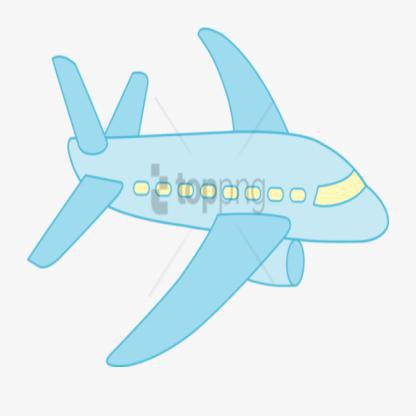CIV_Plane: (25, 28, 390, 372)
